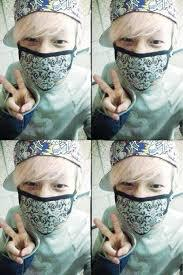OK: (18, 25, 78, 85), (22, 173, 75, 236), (119, 176, 172, 236), (117, 33, 170, 90)
